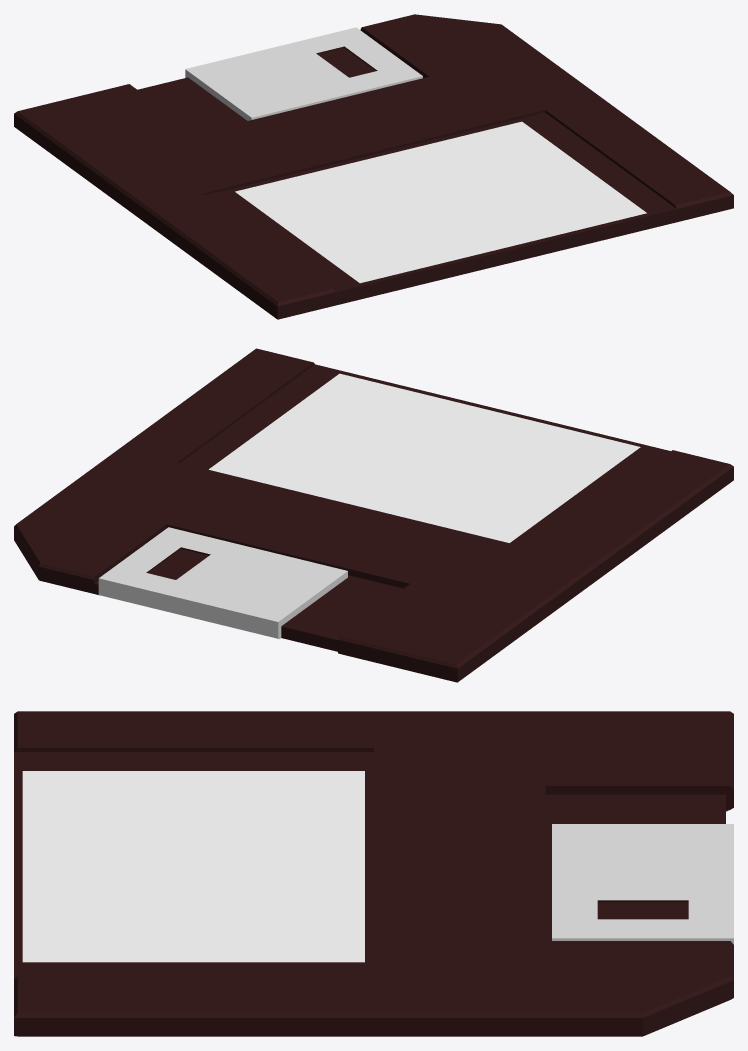
File: floppydisc.fbx
3 renders of one model, top to bottom at view 1: azimuth 30°, elevation 25°; view 2: azimuth 150°, elevation 25°; view 3: azimuth 270°, elevation 25°, orthographic. The views are drawn at different scales.
Parts seen in each view (by area): view 1: Cube; view 2: Cube; view 3: Cube.
Boxes of the visible parts, box(x1,y1,x2,y2) form: Cube: box(14, 14, 733, 319); Cube: box(14, 348, 733, 682); Cube: box(14, 711, 733, 1036).
Bounding box in the file's own units: 10.01 × 0.3635 × 10.01.
